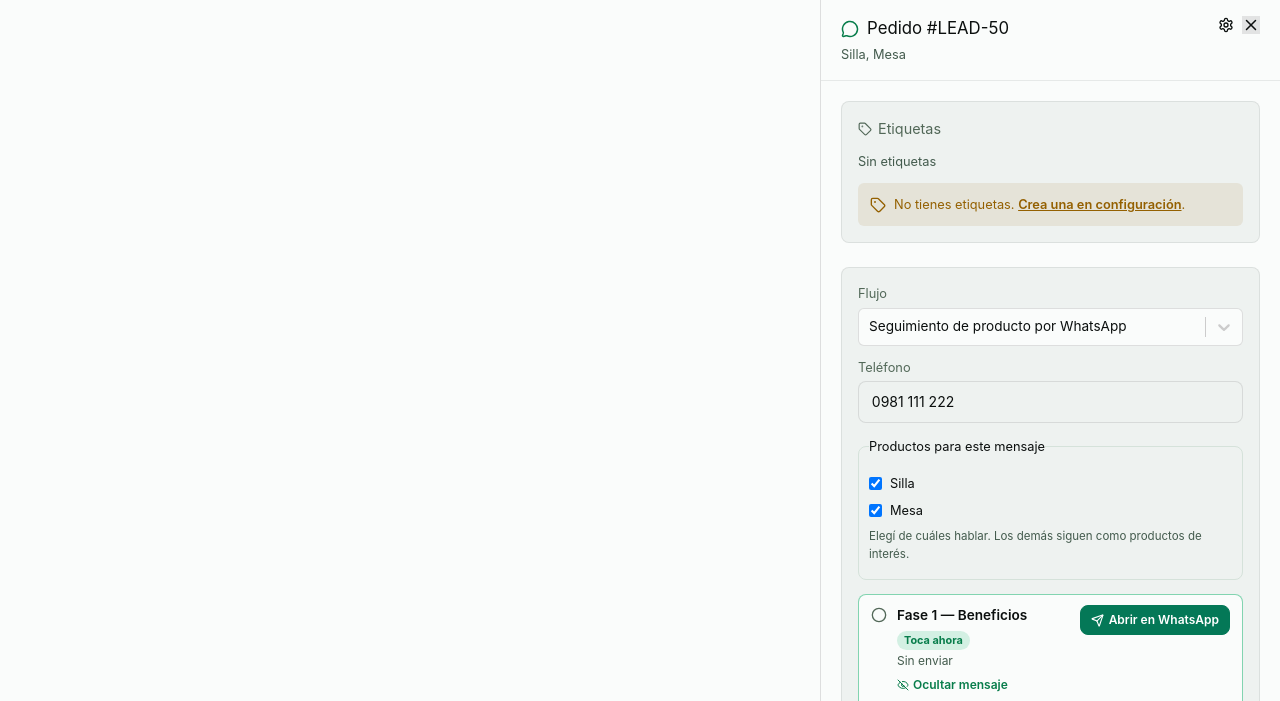
Test: no permite enviar una fase sin elegir productos para el mensaje
Click the checkbox labelled "Silla": x=876, y=484 [869,477,882,490]
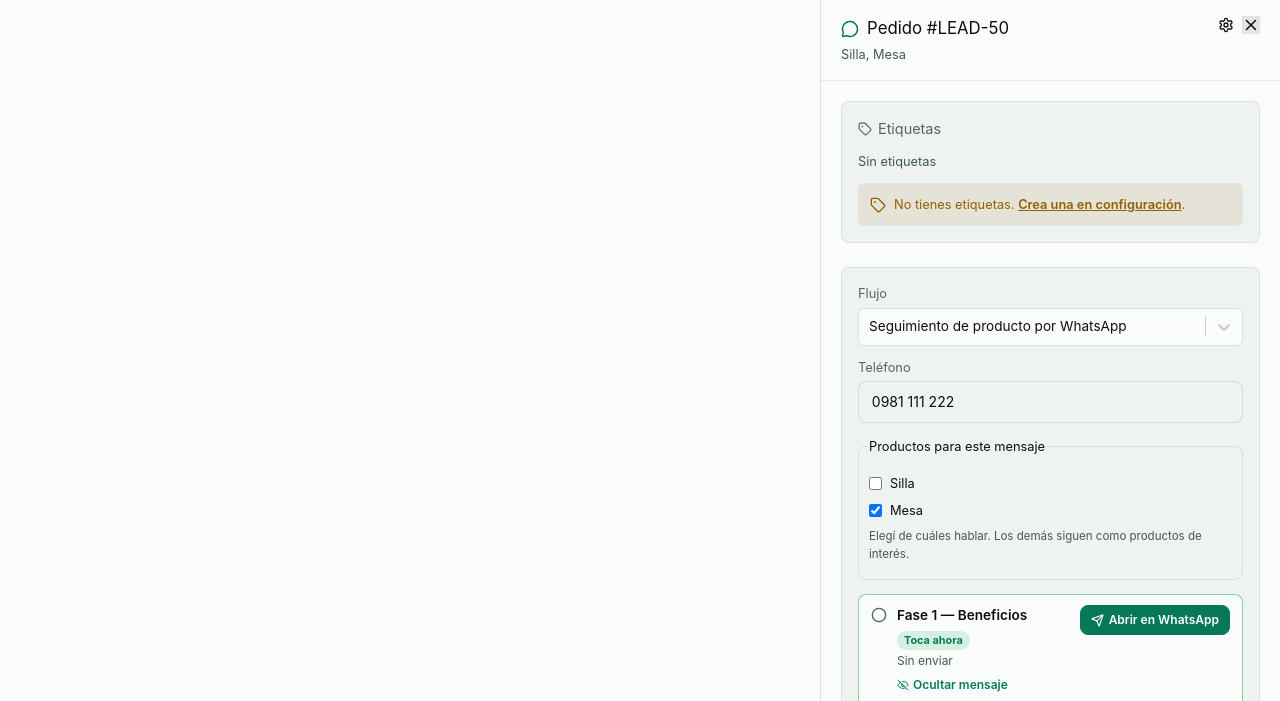
Click the checkbox labelled "Mesa": x=876, y=511 [869,504,882,517]
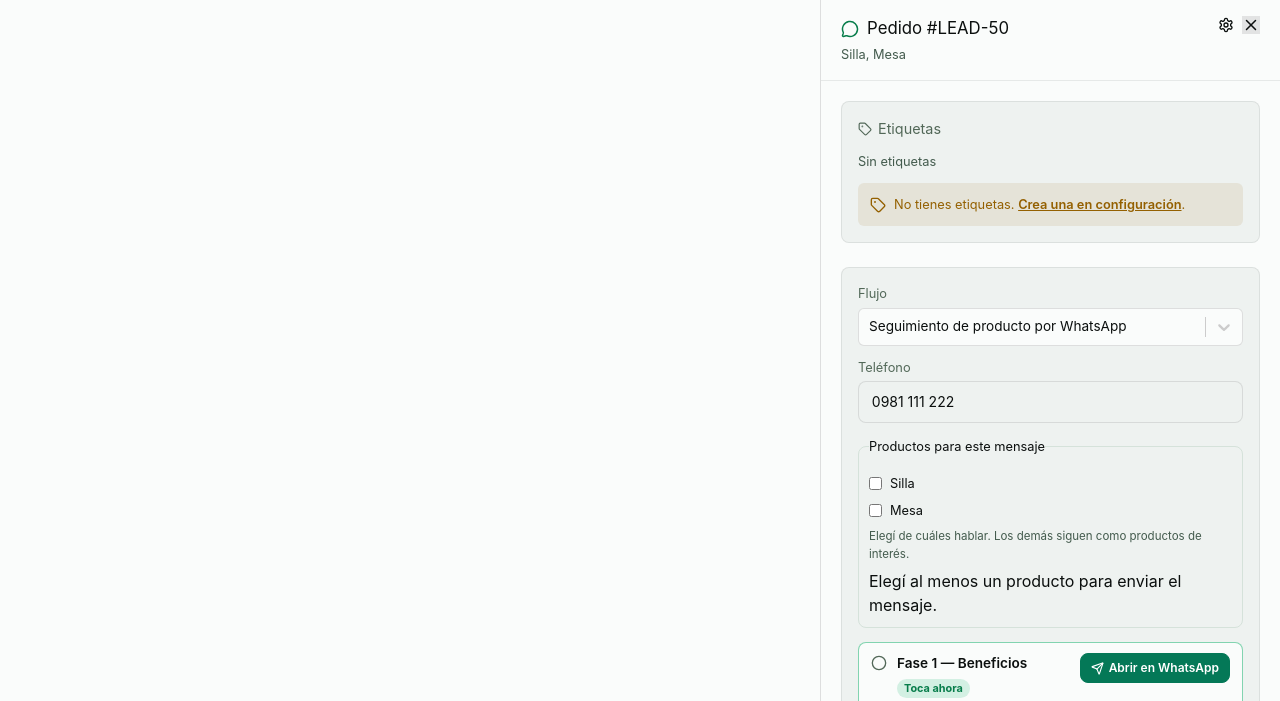
Result: the message shows "Elegí al menos un producto" at [869,571,1181,615]
Result: the button "Abrir en WhatsApp" is disabled at [1080,653,1230,683]
